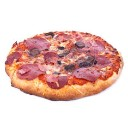pepperonipizza: (8, 31, 124, 99)
